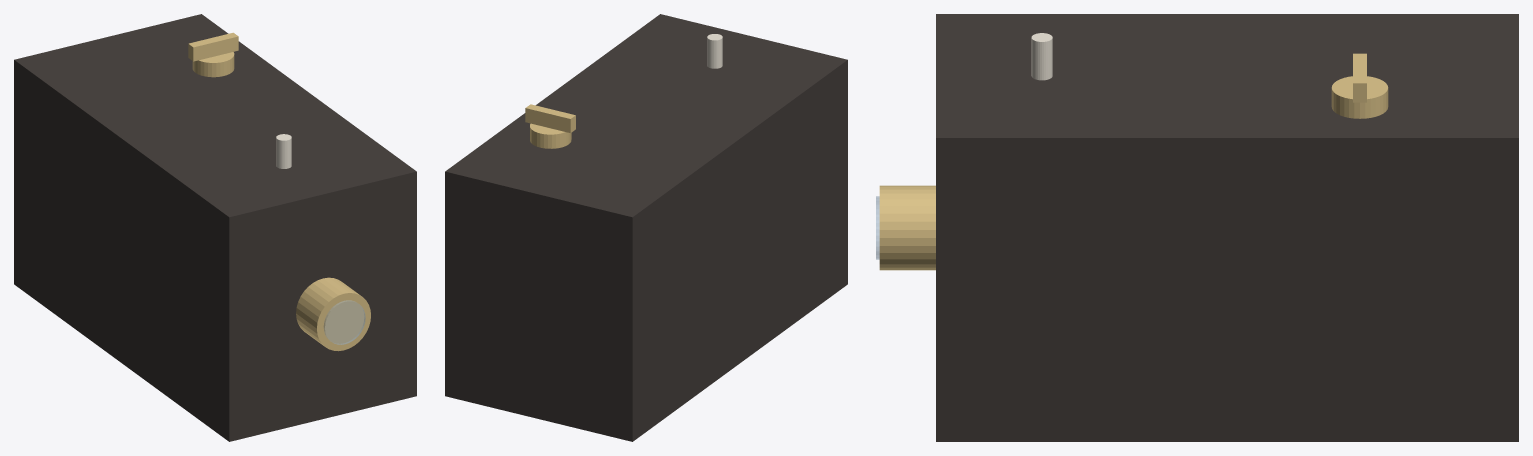
3 renders of one model, left to right at view 1: azimuth 30°, elevation 25°; view 2: azimuth 150°, elevation 25°; view 3: azimuth 270°, elevation 25°, orthographic. The views are drawn at different scales.
Visible parts, largest first — view 1: body_left, body_top, body_front, lens_barrel, body_right, body_bottom, lens_glass, winding_key_wing, winding_key, string_pull, body_back; view 2: body_left, body_top, body_back, body_bottom, body_right, winding_key_wing, winding_key, string_pull, body_front; view 3: body_right, body_top, lens_barrel, body_left, winding_key, body_back, body_front, string_pull, winding_key_wing.
Boxes of the visible parts, x1,y1,x2,y2 form: body_left: [14, 57, 238, 441]; body_top: [15, 14, 416, 226]; body_front: [225, 168, 416, 438]; lens_barrel: [296, 277, 370, 351]; body_right: [194, 14, 416, 387]; body_bottom: [14, 275, 416, 441]; lens_glass: [324, 300, 365, 344]; winding_key_wing: [188, 32, 238, 61]; winding_key: [192, 52, 234, 77]; string_pull: [276, 134, 291, 168]; body_back: [15, 14, 203, 60]; body_left: [623, 59, 847, 441]; body_top: [445, 14, 847, 226]; body_back: [445, 168, 637, 440]; body_bottom: [445, 276, 847, 441]; body_right: [445, 15, 659, 387]; winding_key_wing: [525, 104, 575, 132]; winding_key: [530, 123, 571, 148]; string_pull: [707, 34, 722, 68]; body_front: [658, 14, 847, 282]; body_right: [936, 132, 1518, 441]; body_top: [936, 14, 1518, 150]; lens_barrel: [879, 185, 935, 270]; body_left: [936, 14, 1518, 19]; winding_key: [1331, 76, 1388, 118]; body_back: [1504, 14, 1518, 226]; body_front: [936, 14, 950, 137]; string_pull: [1031, 33, 1052, 80]; winding_key_wing: [1353, 53, 1366, 102].
Size of what is drawn, in the model's own units: 0.83 by 1.07 by 1.82.
